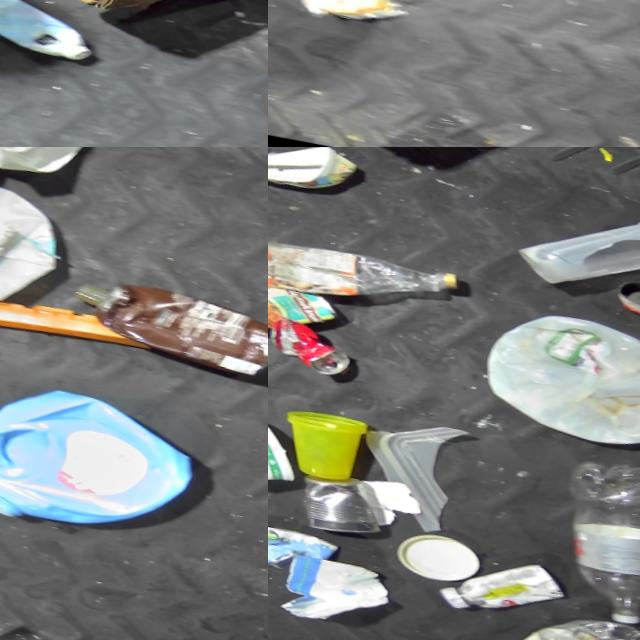can: (285, 467, 386, 543), (268, 313, 357, 382), (268, 271, 344, 347), (268, 0, 408, 35), (605, 276, 640, 327)
milk_jug: (464, 299, 640, 467), (0, 157, 71, 317), (0, 0, 99, 66)
non_white_jug: (0, 368, 204, 556)
plastic_bottle: (268, 222, 465, 330), (536, 452, 640, 634), (483, 600, 640, 640)
